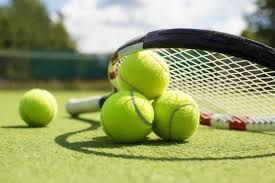tennis_ball: (100, 90, 155, 144), (149, 89, 201, 142), (118, 49, 170, 100), (17, 88, 56, 128)
